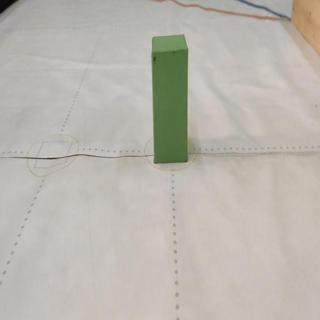greenbox: (151, 35, 189, 163)
